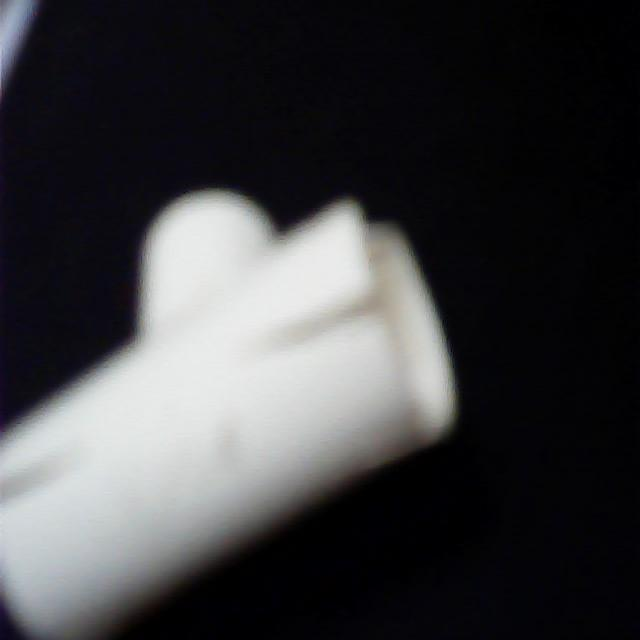Defective: (242, 302, 412, 355), (4, 454, 110, 516), (334, 199, 417, 266)
T Joint: (0, 193, 461, 640)
